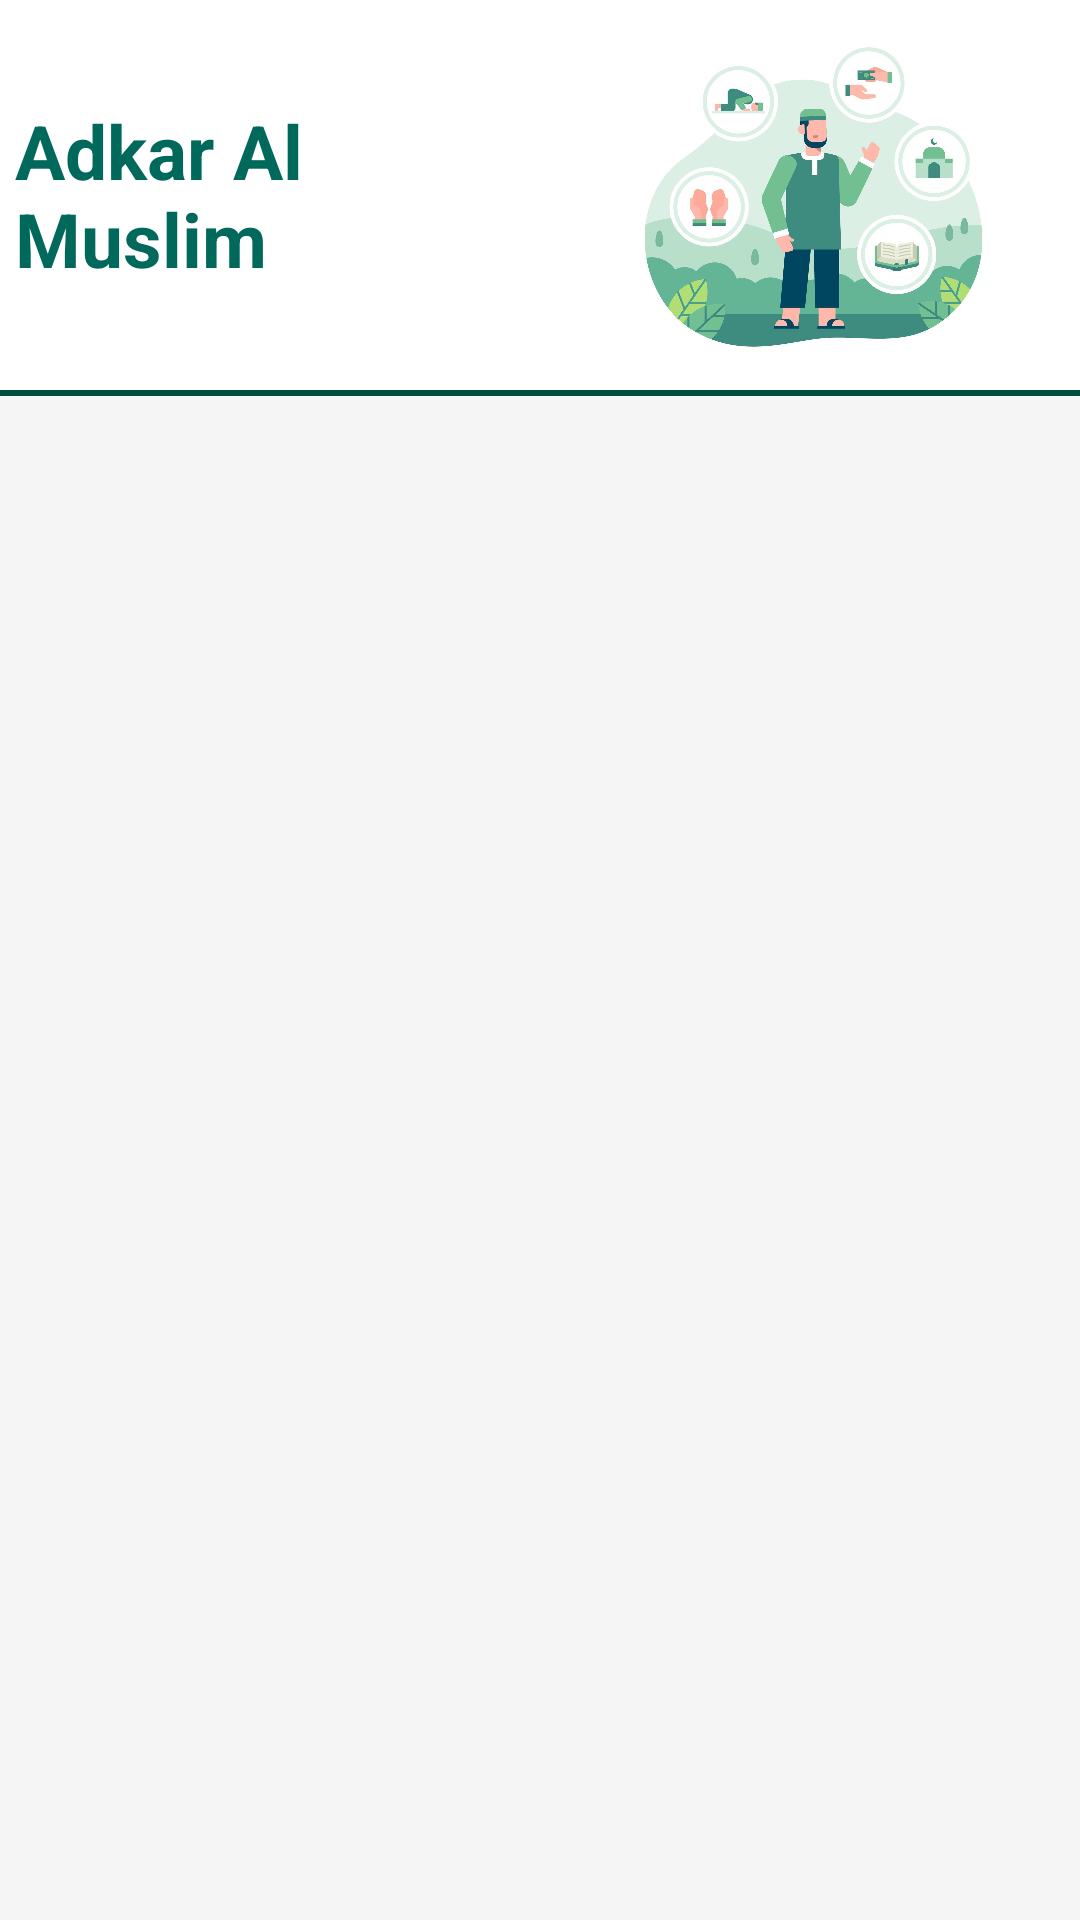

Screen size 1080*1920. Icon name, then its box in pixels as bbox=[x1, y1, x2, y2]:
duas: bbox=[645, 47, 982, 347]
